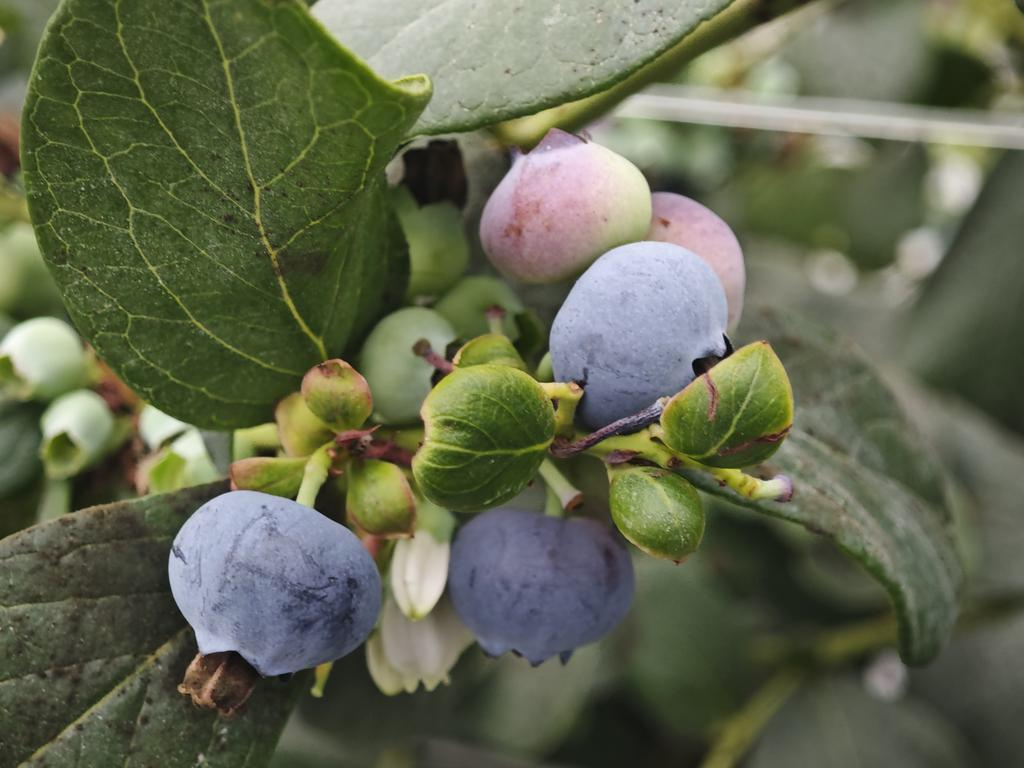RipeBlueBerry: (163, 497, 380, 691), (547, 248, 757, 442), (446, 501, 654, 673)
Semi-RipeBlueBerry: (470, 126, 671, 274)
